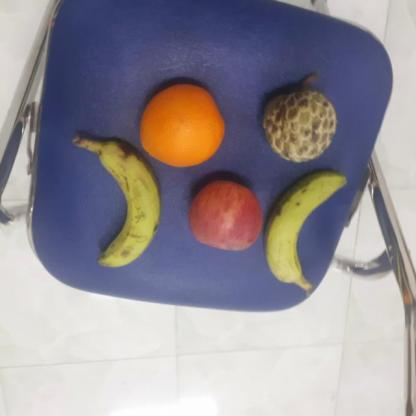annona: (257, 90, 342, 164)
apple: (187, 178, 266, 255)
banana: (88, 140, 164, 273), (261, 174, 347, 289)
orange: (136, 82, 225, 170)
